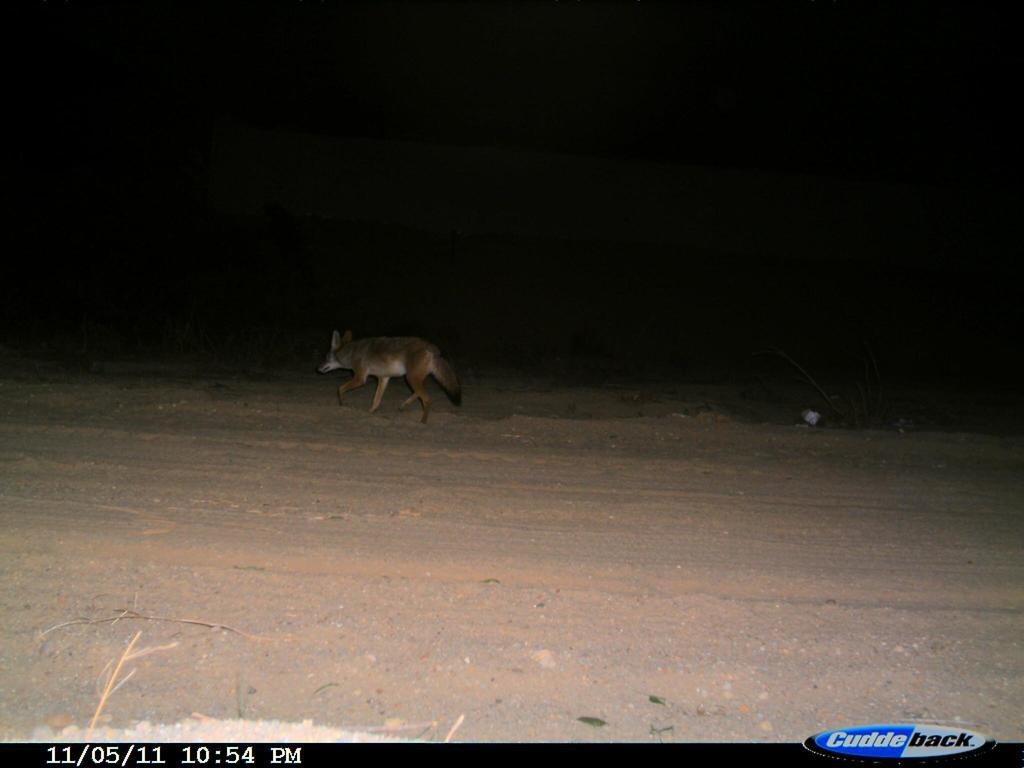coyote: (313, 323, 473, 433)
